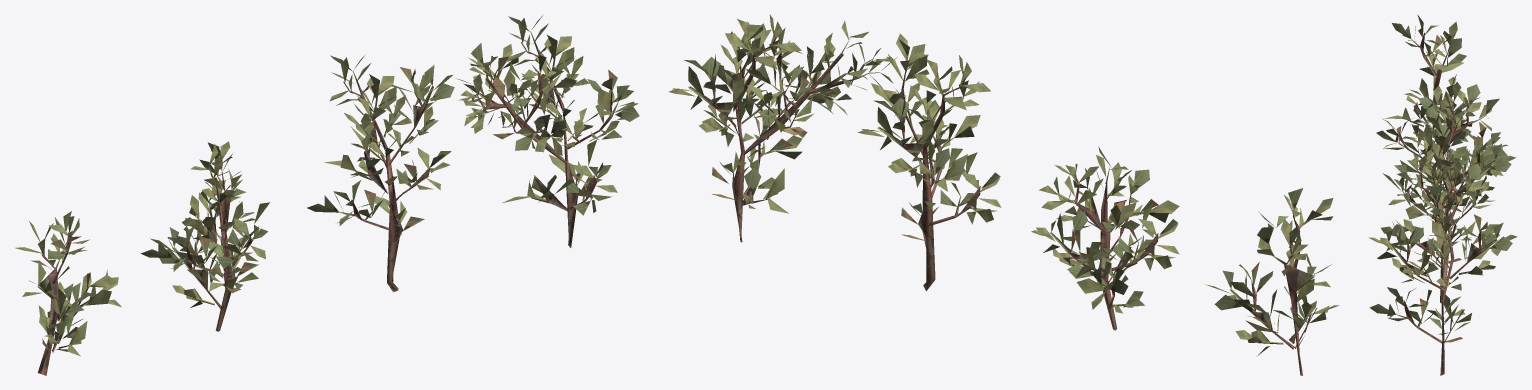
Rendered from shrub_04.glb.
3 renders of one model, left to right at view 1: azimuth 30°, elevation 25°; view 2: azimuth 150°, elevation 25°; view 3: azimuth 270°, elevation 25°, orthographic. The views are drawn at different scales.
Parts seen in each view (by area): view 1: shrub_04; view 2: shrub_04; view 3: shrub_04.
Part boxes in pixels (x1,y1,x2,y2): shrub_04: (15, 15, 639, 375); shrub_04: (668, 14, 1339, 375); shrub_04: (1368, 14, 1517, 375).
Bounding box in the file's own units: 3.29 × 1.25 × 0.8231.
Materials: 1 (1 with a texture image).
